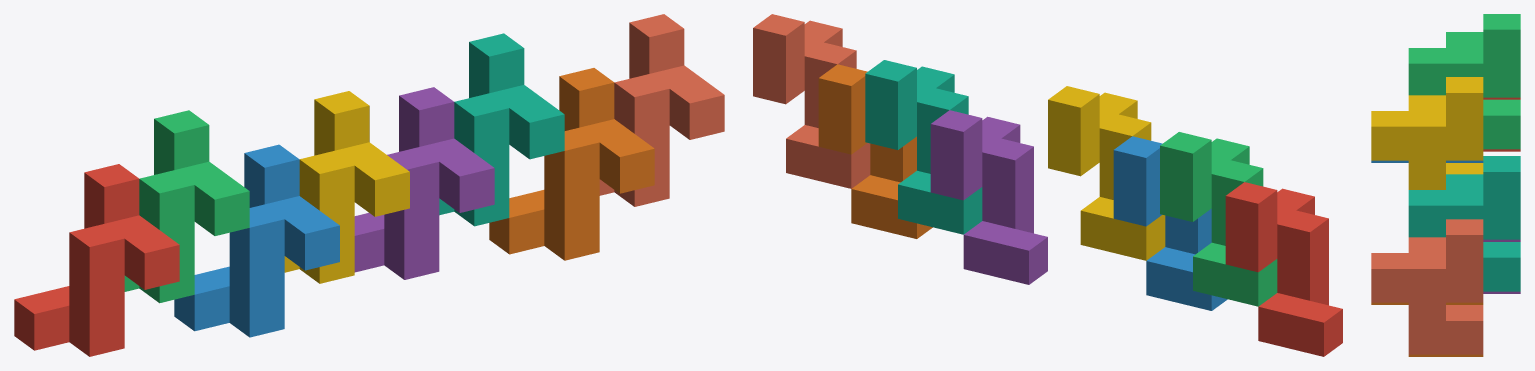
Rendered from tiling.obj.
3 views of the same model, side by side, from view 1: azimuth 30°, elevation 25°; view 2: azimuth 150°, elevation 25°; view 3: azimuth 270°, elevation 25° (orthographic). The views are drawn at different scales.
Visible parts, largest first — view 1: copy_1_domain_1, copy_1_domain_2, copy_1_domain_6, copy_1_domain_5, copy_1_domain_3, copy_1_domain_7, copy_1_domain_8, copy_1_domain_4; view 2: copy_1_domain_5, copy_1_domain_1, copy_1_domain_4, copy_1_domain_3, copy_1_domain_8, copy_1_domain_7, copy_1_domain_6, copy_1_domain_2; view 3: copy_1_domain_8, copy_1_domain_4, copy_1_domain_3, copy_1_domain_7, copy_1_domain_6, copy_1_domain_1, copy_1_domain_5, copy_1_domain_2.
Part boxes in pixels (x1,y1,x2,y2): copy_1_domain_1: (14,164,179,356); copy_1_domain_2: (174,144,339,337); copy_1_domain_6: (489,68,654,260); copy_1_domain_5: (354,87,494,279); copy_1_domain_3: (124,110,249,303); copy_1_domain_7: (439,33,564,226); copy_1_domain_8: (599,14,724,206); copy_1_domain_4: (284,91,409,283); copy_1_domain_5: (930,110,1047,284); copy_1_domain_1: (1225,182,1342,356); copy_1_domain_4: (1048,86,1165,260); copy_1_domain_3: (1160,132,1277,306); copy_1_domain_8: (753,14,870,188); copy_1_domain_7: (865,60,982,234); copy_1_domain_6: (818,64,932,238); copy_1_domain_2: (1113,136,1227,310); copy_1_domain_8: (1371,219,1483,354); copy_1_domain_4: (1371,77,1483,189); copy_1_domain_3: (1408,14,1520,149); copy_1_domain_7: (1408,156,1520,291); copy_1_domain_6: (1371,302,1483,356); copy_1_domain_1: (1483,97,1520,151); copy_1_domain_5: (1483,239,1520,293); copy_1_domain_2: (1371,160,1483,162).
Bounding box in the file's own units: 18 × 5 × 4.
